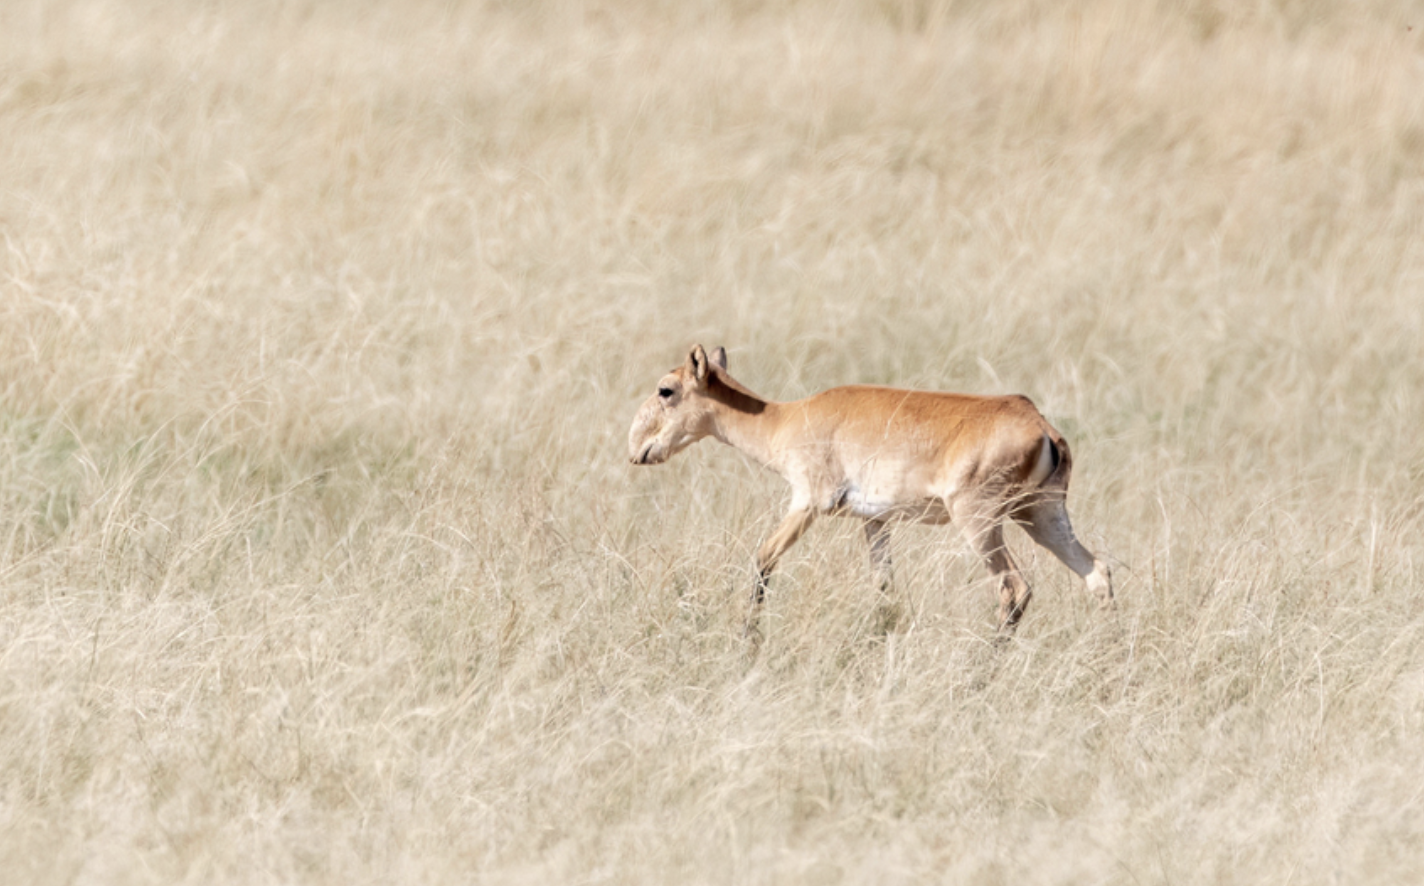saiga: (539, 321, 1113, 630)
